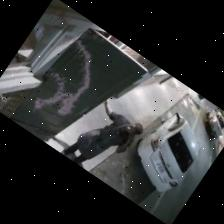person: (62, 100, 143, 164)
